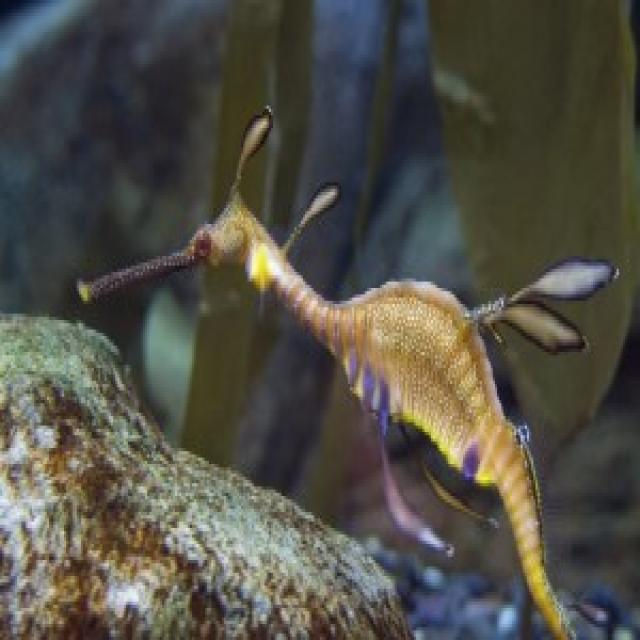Seahorse: (65, 157, 596, 635)
